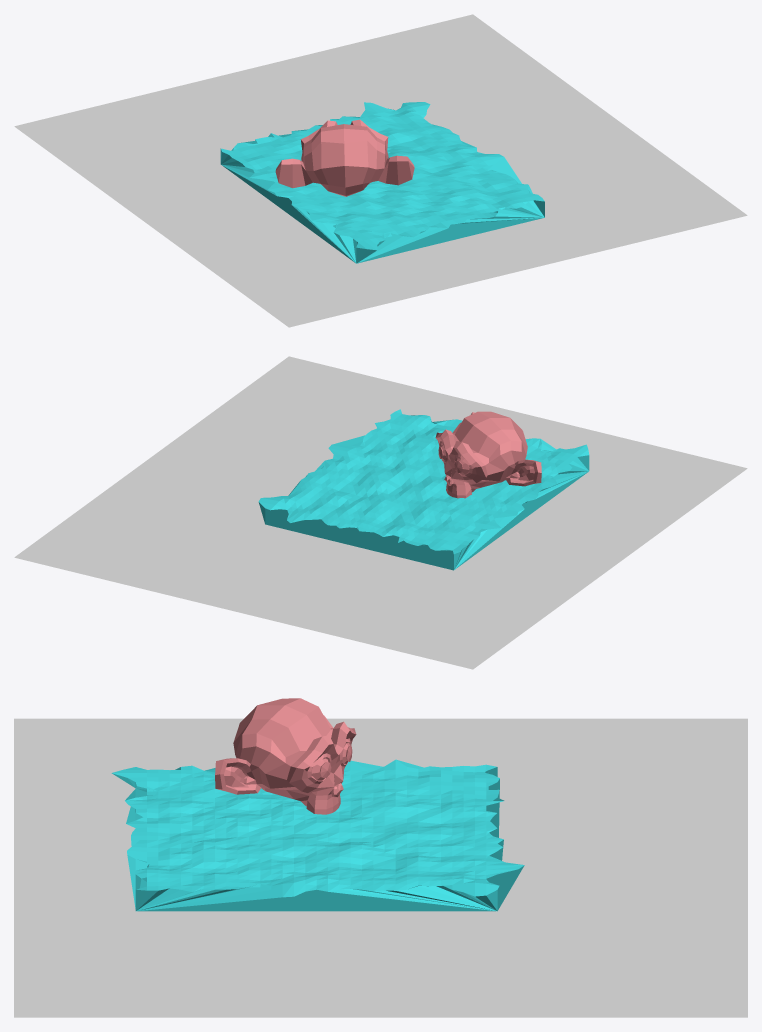
File: water.fbx
The picture shows the model from 3 angles, top to bottom: view 1: azimuth 30°, elevation 25°; view 2: azimuth 150°, elevation 25°; view 3: azimuth 270°, elevation 25°; orthographic projection. The views are drawn at different scales.
Visible parts, largest first — view 1: Plane, Cube, Suzanne; view 2: Plane, Cube, Suzanne; view 3: Plane, Cube, Suzanne.
Boxes of the visible parts, bbox=[...] form: Plane: bbox=[14, 14, 747, 327]; Cube: bbox=[220, 102, 544, 263]; Suzanne: bbox=[275, 119, 414, 196]; Plane: bbox=[14, 356, 747, 669]; Cube: bbox=[258, 409, 589, 570]; Suzanne: bbox=[435, 411, 541, 498]; Plane: bbox=[14, 718, 747, 1017]; Cube: bbox=[111, 759, 524, 911]; Suzanne: bbox=[215, 698, 356, 814].
Size of the model in its own units: 1041 by 194 by 1080.
